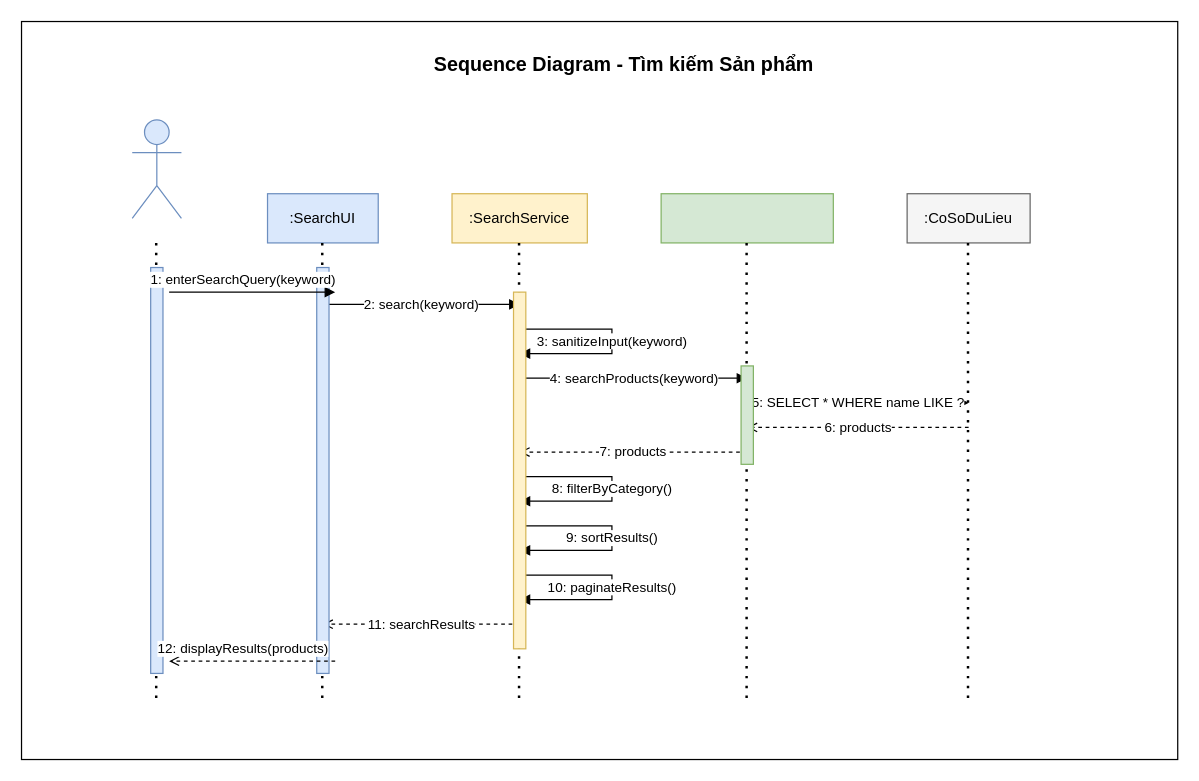
Image size: 1199x781. Some labels were removed from this diagram. Each missing label, with the centre of its shape:
":KhoSanPham" goes at [746,217].
"Người dùng" goes at [156,168].
